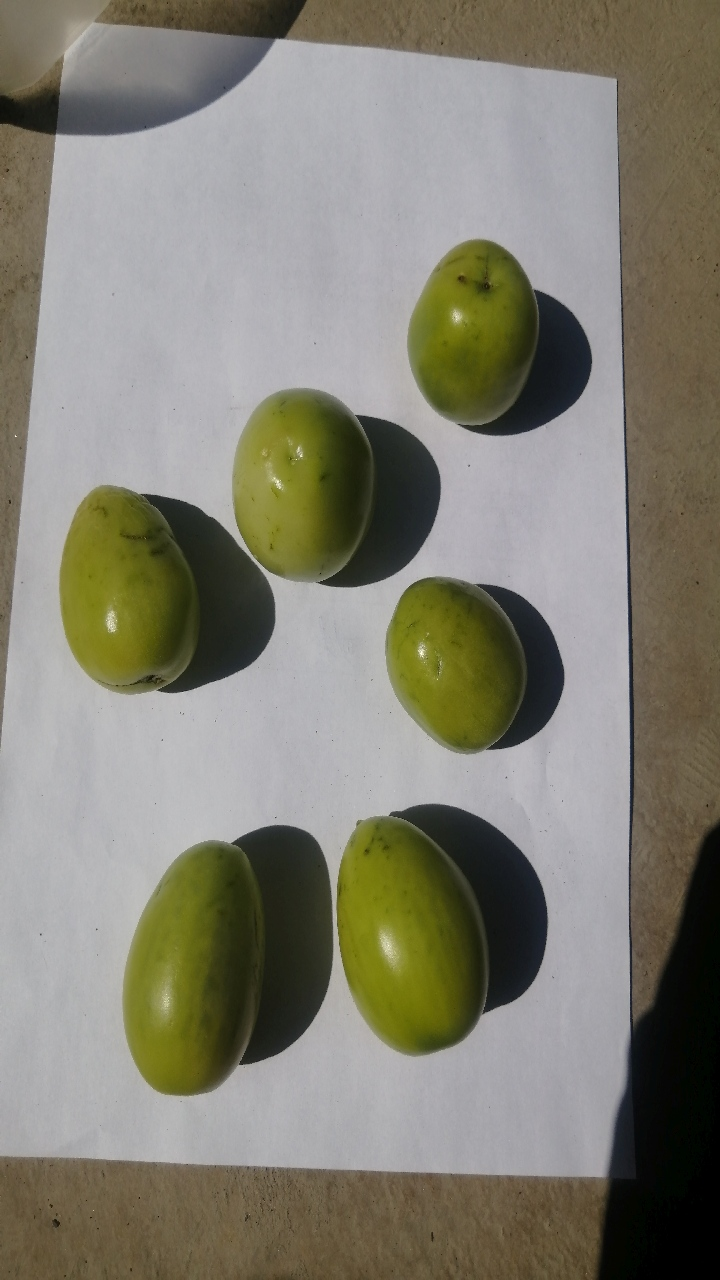tomateVerde: (314, 786, 509, 1092), (100, 822, 272, 1128), (37, 471, 228, 720), (384, 209, 561, 440), (214, 374, 384, 608), (374, 562, 538, 769)
